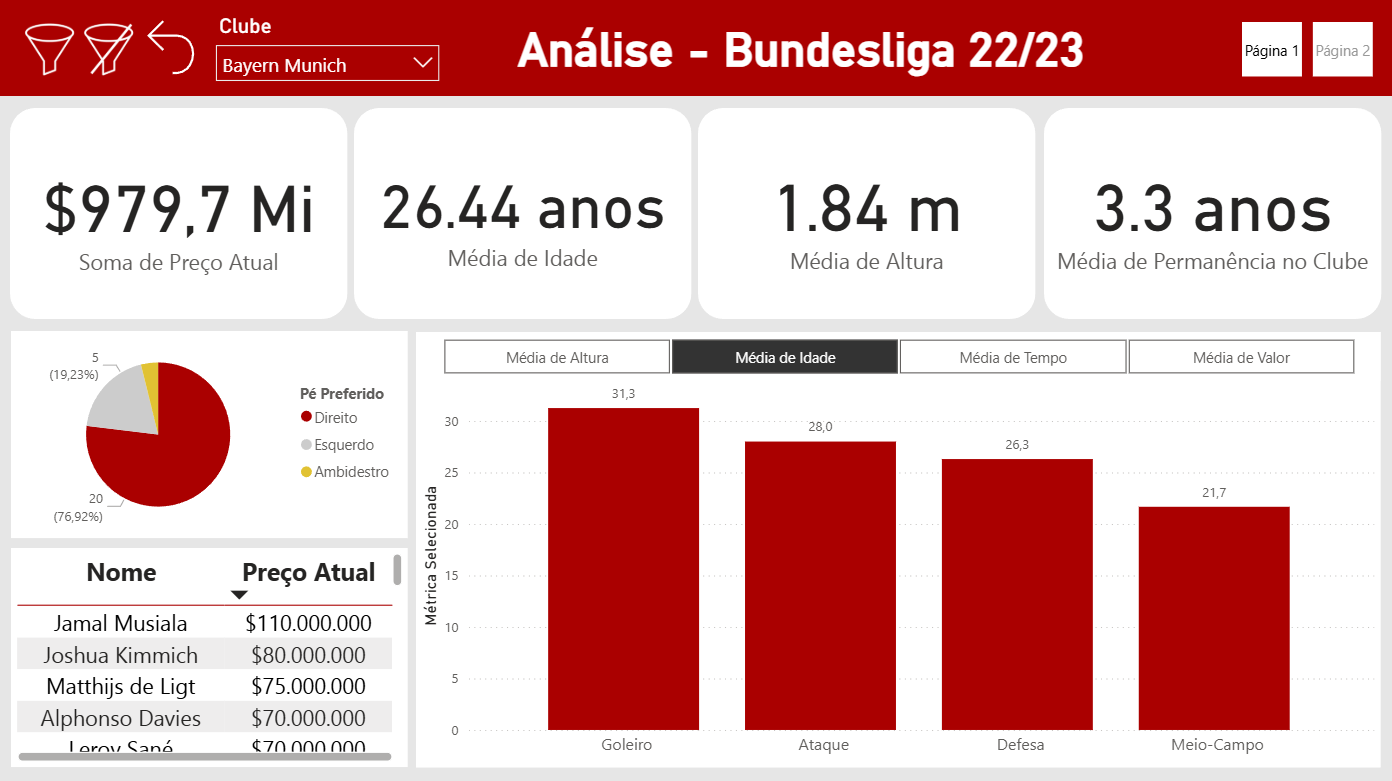

This screenshot's page, from the dashboard's own definition file:
{"tool":"powerbi","page":{"name":"Página 1","canvas":[1280,720],"ordinal":0},"visuals":[{"type":"textbox","box":[194.7,16.7,1085.3,60.7],"z":1000},{"type":"shape","box":[0,89.1,1280,630.1],"z":2000},{"type":"shape","box":[959.4,99.9,309.5,193.6],"z":3000},{"type":"tableEx","fields":{"Values":["bundesliga_player 2.Nome","Sum(bundesliga_player 2.Preço Atual)"]},"box":[11.7,504.1,364,200.6],"z":4000},{"type":"shape","box":[11.1,99.9,309.5,193.6],"z":5000},{"type":"card","fields":{"Values":["Sum(bundesliga_player 2.Preço Atual)"]},"box":[11.1,133.2,309.5,129.5],"z":6000},{"type":"clusteredColumnChart","title":"_","fields":{"Category":["bundesliga_player 2.Posição"],"Y":["Avg(bundesliga_player 2.Idade)"]},"box":[383.2,304.6,885.2,400.1],"z":7000},{"type":"pieChart","fields":{"Category":["bundesliga_player 2.Pé Preferido"],"Y":["CountNonNull(bundesliga_player 2.Pé Preferido)"]},"box":[11.7,304.6,364,190],"z":8000},{"type":"card","fields":{"Values":["bundesliga_player.Média de Permanência no Clube","select","select1"]},"box":[959.4,131.9,309.5,129.5],"z":9000},{"type":"textbox","box":[578.8,314.4,690,42.9],"z":10000},{"type":"shape","box":[326.8,99.9,309.5,193.6],"z":11000},{"type":"card","fields":{"Values":["bundesliga_player.Média de Idade (com texto)"]},"box":[326.8,131.9,309.5,129.5],"z":12000},{"type":"pageNavigator","box":[1141.2,21.4,120.4,50],"z":13000},{"type":"actionButton","box":[126.8,8.5,64,71.2],"z":14000},{"type":"shape","box":[642.5,99.9,309.5,193.6],"z":15000},{"type":"card","fields":{"Values":["bundesliga_player.Média de Altura (m)"]},"box":[642.5,131.9,309.5,129.5],"z":16000},{"type":"image","box":[19.3,7.2,114.7,77.3],"z":17000},{"type":"actionButton","box":[19.3,8.5,58,68.8],"z":18000},{"type":"actionButton","box":[76.1,8.5,58,68.8],"z":19000},{"type":"slicer","fields":{"Values":["bundesliga_player 2.Clube"]},"box":[189.6,8.5,224.6,68.8],"z":19500}]}

Visuals, with their boxes in screenshot pixels (x1, y1, x2, y2), scaled from the page's 1280x720 canvas onto the 1392x781 screenshot:
textbox: {"x1": 212, "y1": 18, "x2": 1391, "y2": 84}
shape: {"x1": 0, "y1": 97, "x2": 1391, "y2": 780}
shape: {"x1": 1043, "y1": 108, "x2": 1380, "y2": 318}
tableEx - bundesliga_player 2.Nome x Sum(bundesliga_player 2.Preço Atual): {"x1": 13, "y1": 547, "x2": 409, "y2": 764}
shape: {"x1": 12, "y1": 108, "x2": 349, "y2": 318}
card - Sum(bundesliga_player 2.Preço Atual): {"x1": 12, "y1": 144, "x2": 349, "y2": 285}
"_" clusteredColumnChart: {"x1": 417, "y1": 330, "x2": 1379, "y2": 764}
pieChart - bundesliga_player 2.Pé Preferido x CountNonNull(bundesliga_player 2.Pé Preferido): {"x1": 13, "y1": 330, "x2": 409, "y2": 537}
card - bundesliga_player.Média de Permanência no Clube x select: {"x1": 1043, "y1": 143, "x2": 1380, "y2": 284}
textbox: {"x1": 629, "y1": 341, "x2": 1380, "y2": 388}
shape: {"x1": 355, "y1": 108, "x2": 692, "y2": 318}
card - bundesliga_player.Média de Idade (com texto): {"x1": 355, "y1": 143, "x2": 692, "y2": 284}
pageNavigator: {"x1": 1241, "y1": 23, "x2": 1372, "y2": 77}
actionButton: {"x1": 138, "y1": 9, "x2": 207, "y2": 86}
shape: {"x1": 699, "y1": 108, "x2": 1035, "y2": 318}
card - bundesliga_player.Média de Altura (m): {"x1": 699, "y1": 143, "x2": 1035, "y2": 284}
image: {"x1": 21, "y1": 8, "x2": 146, "y2": 92}
actionButton: {"x1": 21, "y1": 9, "x2": 84, "y2": 84}
actionButton: {"x1": 83, "y1": 9, "x2": 146, "y2": 84}
slicer - bundesliga_player 2.Clube: {"x1": 206, "y1": 9, "x2": 450, "y2": 84}
